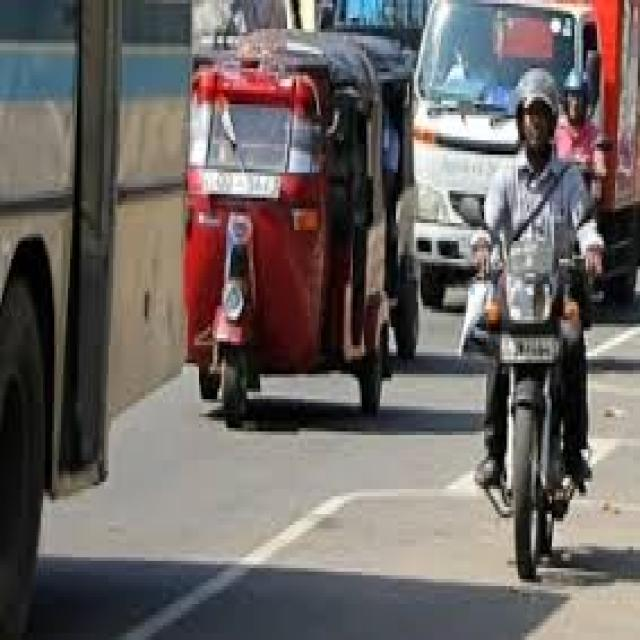bus: (0, 0, 188, 636)
motorcycle: (486, 223, 581, 579)
person: (473, 68, 602, 493), (554, 68, 595, 173)
three wheeler: (183, 32, 387, 424), (353, 36, 416, 370)
truck: (414, 0, 638, 306)
